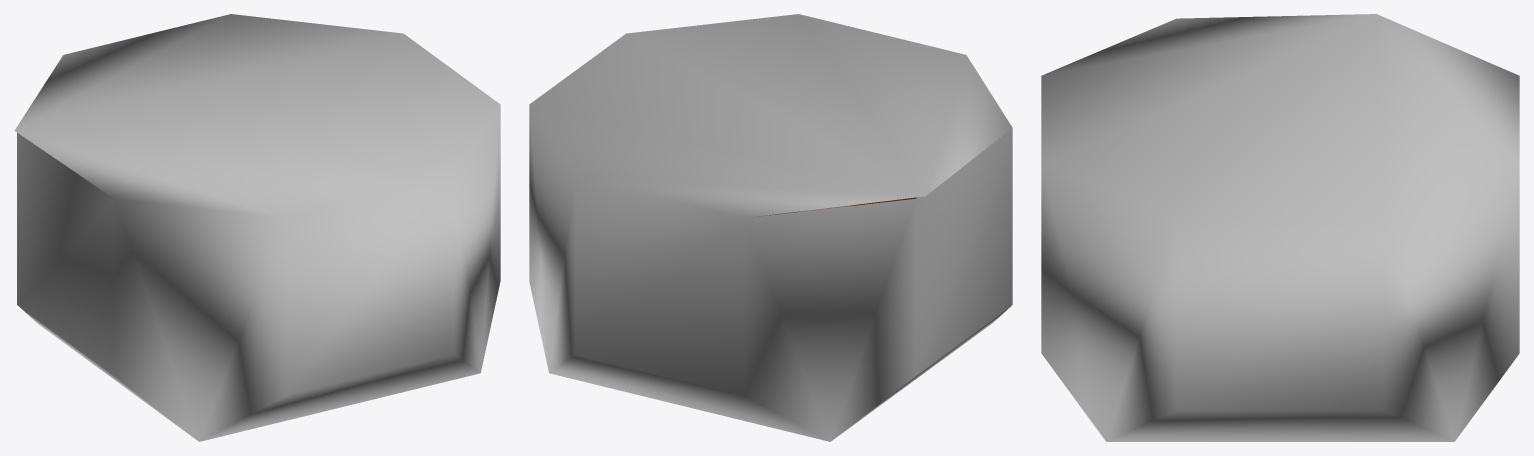
File: SM_Ink_Cap.gltf
The picture shows the model from 3 angles, left to right: view 1: azimuth 30°, elevation 25°; view 2: azimuth 150°, elevation 25°; view 3: azimuth 270°, elevation 25°; orthographic projection. The views are drawn at different scales.
Parts seen in each view (by area): view 1: SM_Ink_Cap_ConvexHulls; view 2: SM_Ink_Cap_ConvexHulls; view 3: SM_Ink_Cap_ConvexHulls.
Boxes of the visible parts, x1,y1,x2,y2 form: SM_Ink_Cap_ConvexHulls: (14, 14, 500, 441); SM_Ink_Cap_ConvexHulls: (529, 14, 1012, 441); SM_Ink_Cap_ConvexHulls: (1041, 14, 1519, 441).
Size of what is drawn, in the model's own units: 0.046 by 0.0261 by 0.0453.
2 materials, 1 textured.
